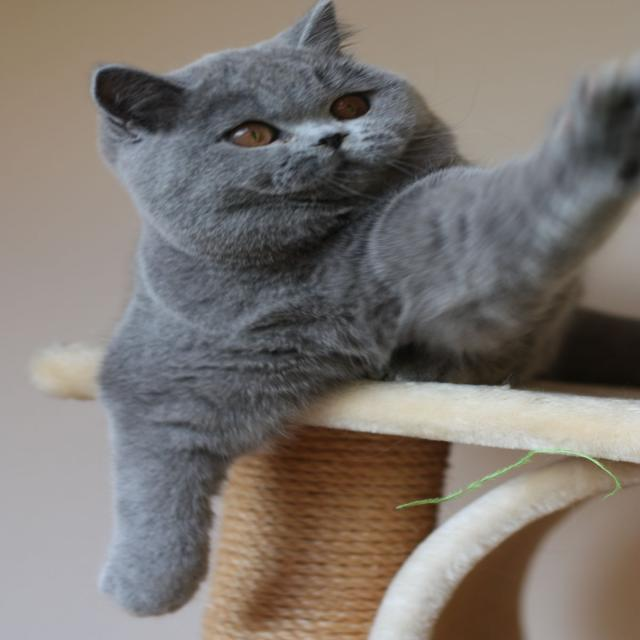british shorthair: (0, 50, 640, 598)
